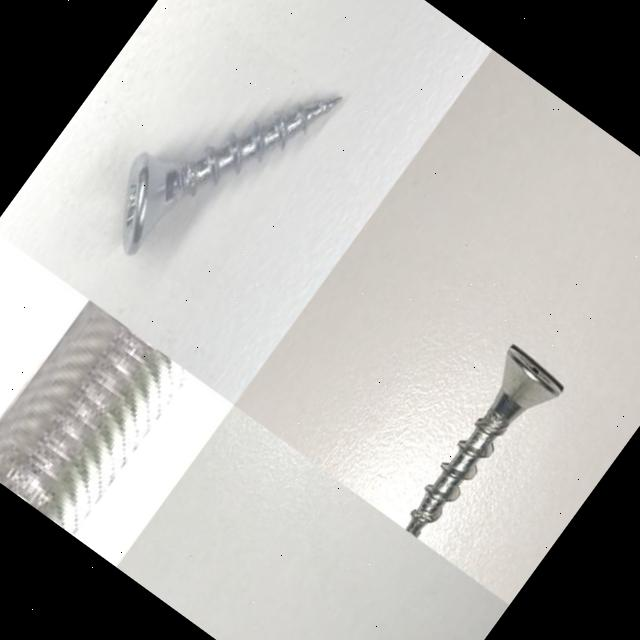Screw: (0, 300, 189, 537), (121, 98, 340, 255), (405, 346, 561, 538)
